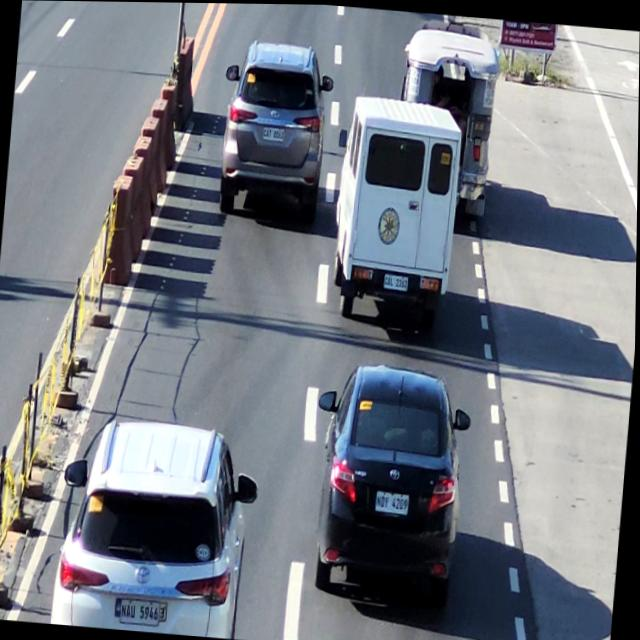Car: (53, 413, 258, 639), (313, 355, 472, 613), (329, 95, 461, 334), (218, 35, 336, 221)
Jeep: (390, 29, 503, 233)
License-Plate: (116, 592, 166, 630), (374, 484, 414, 519), (260, 123, 287, 146), (384, 271, 411, 293)
